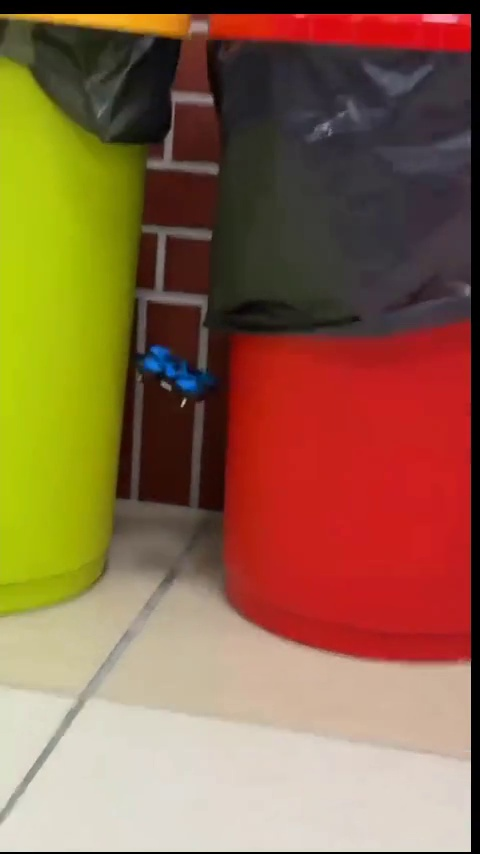drone: (133, 352, 211, 404)
